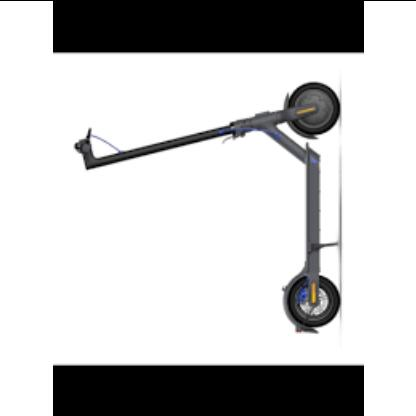bike: (74, 80, 344, 332)
